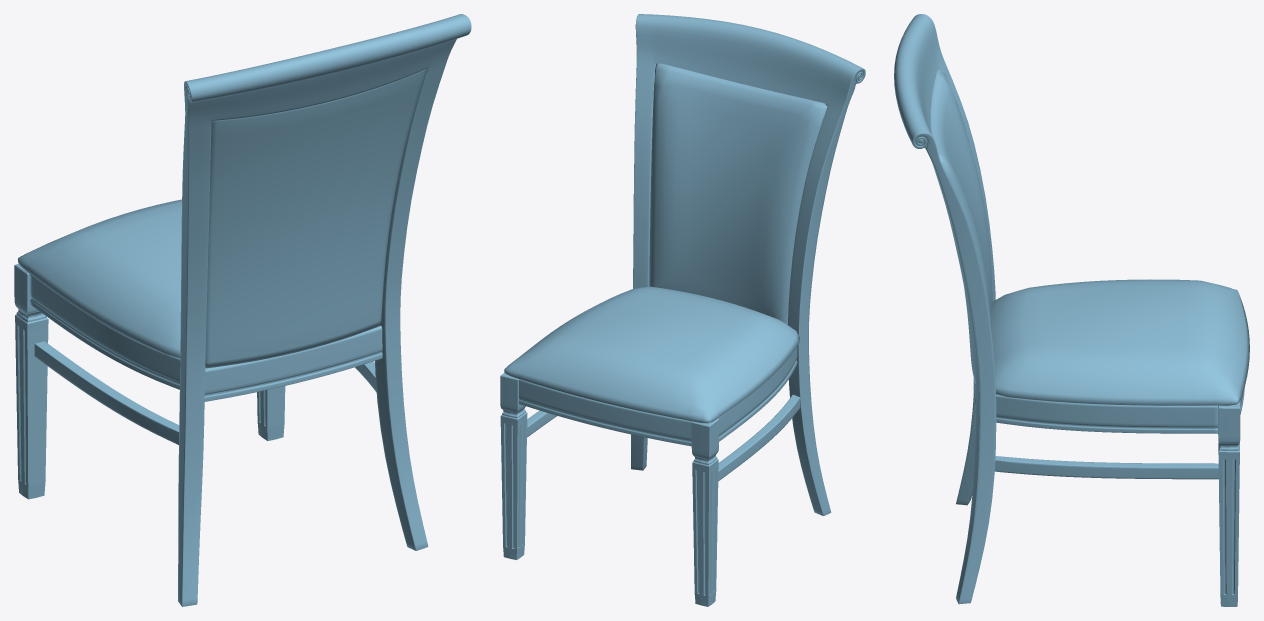
The model's file is DiningSet_Gen_2_Chair.fbx.
3 views of the same model, side by side, from view 1: azimuth 30°, elevation 25°; view 2: azimuth 150°, elevation 25°; view 3: azimuth 270°, elevation 25° (orthographic). The views are drawn at different scales.
Parts seen in each view (by area): view 1: mesh_chair; view 2: mesh_chair; view 3: mesh_chair.
Part boxes in pixels (x1,y1,x2,y2): mesh_chair: [14, 14, 471, 606]; mesh_chair: [500, 14, 865, 606]; mesh_chair: [894, 14, 1249, 606].
Bounding box in the file's own units: 55 × 103 × 68.7.
